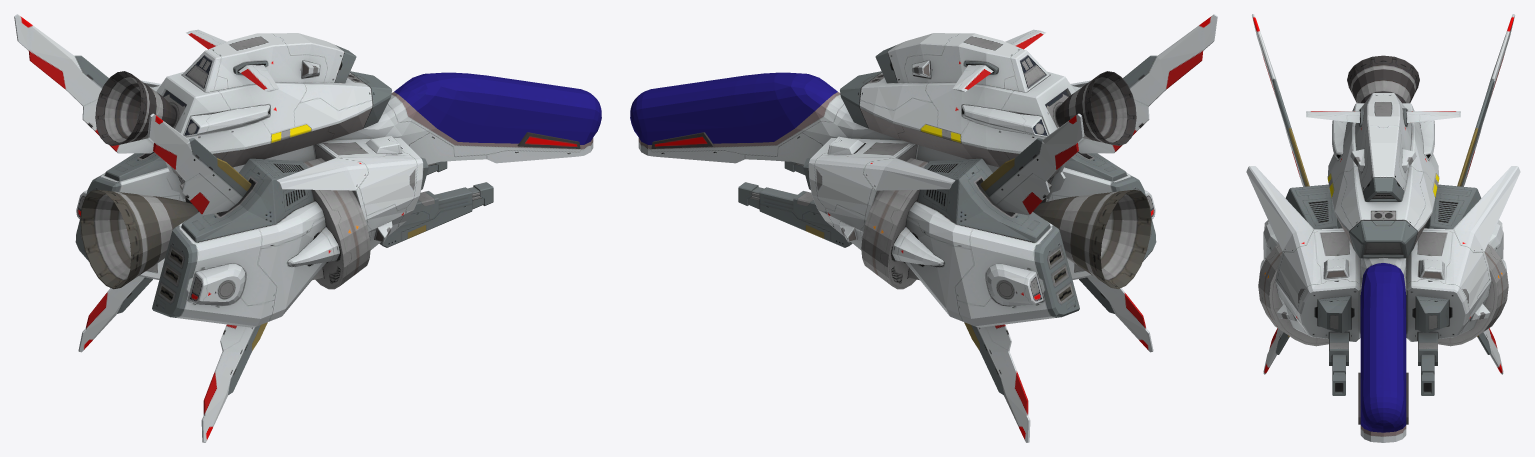
The picture shows the model from 3 angles, left to right: view 1: azimuth 30°, elevation 25°; view 2: azimuth 150°, elevation 25°; view 3: azimuth 270°, elevation 25°; orthographic projection. The views are drawn at different scales.
Visible parts, largest first — view 1: obj_026_00.mo_obj_026_00.md; view 2: obj_026_00.mo_obj_026_00.md; view 3: obj_026_00.mo_obj_026_00.md.
Part boxes in pixels (left/top/right/bottom): obj_026_00.mo_obj_026_00.md: left=14, top=14, right=601, bottom=442; obj_026_00.mo_obj_026_00.md: left=630, top=14, right=1217, bottom=442; obj_026_00.mo_obj_026_00.md: left=1246, top=14, right=1520, bottom=442.
Bounding box in the file's own units: 0.8355 × 0.5383 × 0.4011.
Materials: 1 (1 with a texture image).
